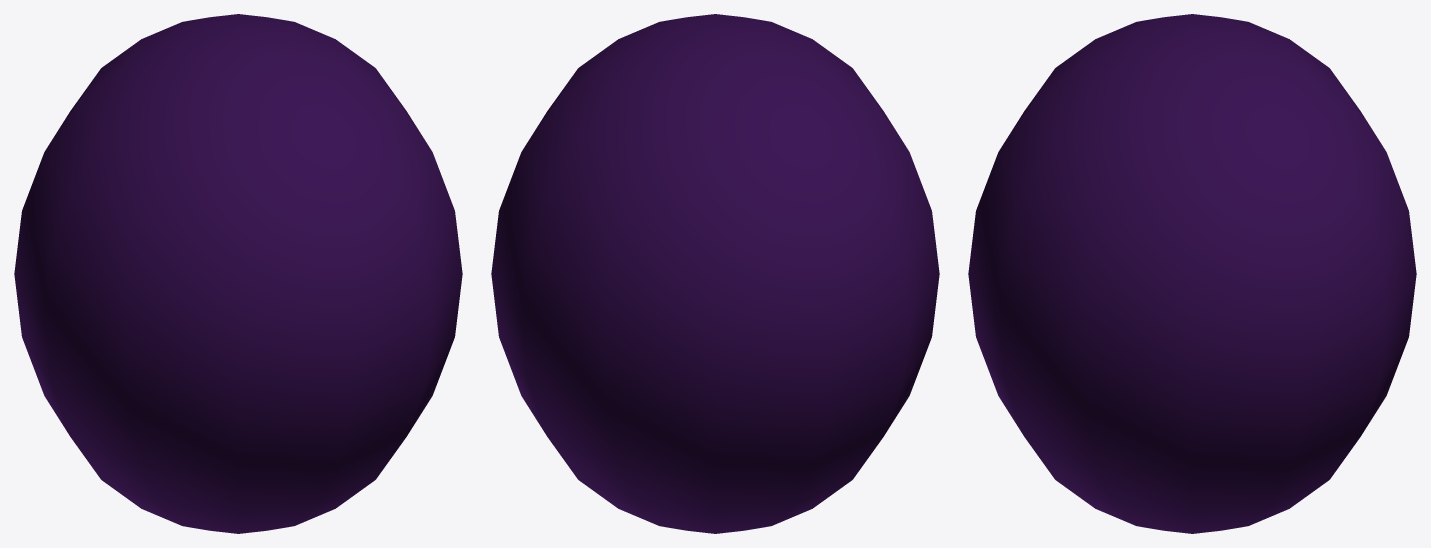
File: Vagalumorte_stage2.obj
3 renders of one model, left to right at view 1: azimuth 30°, elevation 25°; view 2: azimuth 150°, elevation 25°; view 3: azimuth 270°, elevation 25°, orthographic.
Bounding box in the file's own units: 2 × 2.4 × 2.
